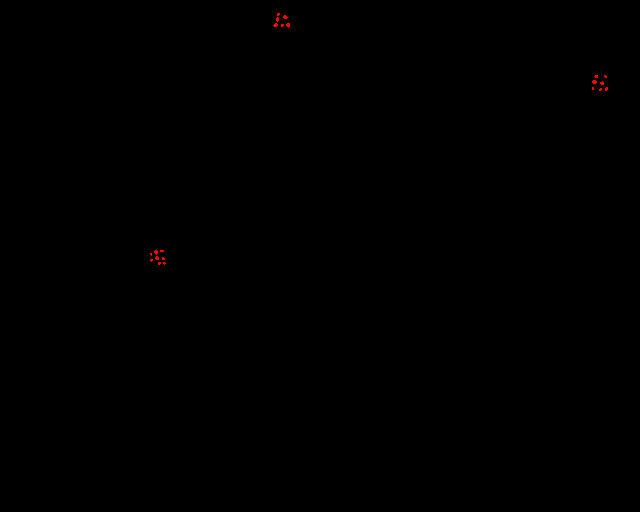Target: (283, 15, 288, 19), (273, 23, 278, 27), (286, 23, 290, 28), (592, 80, 597, 84), (154, 250, 158, 255), (600, 81, 604, 85), (155, 256, 159, 260), (276, 17, 279, 22), (594, 75, 598, 78), (605, 87, 608, 91), (277, 13, 280, 16), (281, 24, 284, 27), (604, 75, 607, 78), (599, 88, 602, 91), (162, 257, 165, 260), (150, 259, 153, 262), (158, 262, 161, 265), (163, 262, 166, 265), (160, 250, 164, 252), (592, 87, 594, 90), (150, 253, 152, 256)
